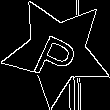P_NE: (30, 20, 85, 83)
